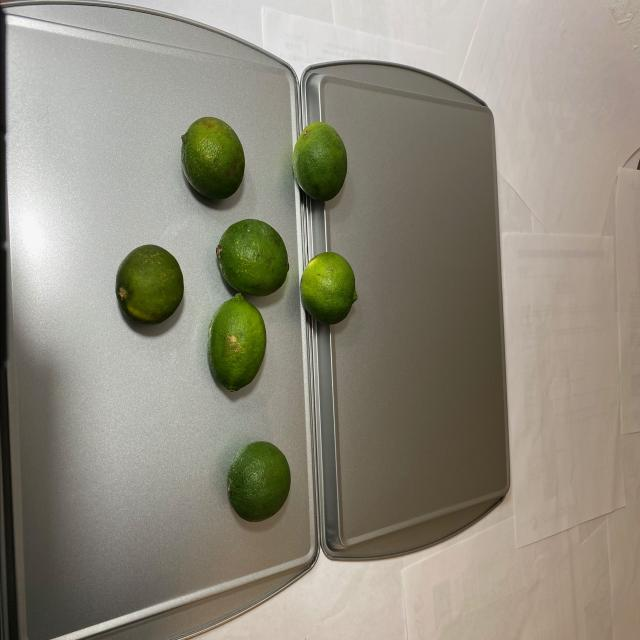lemon: (110, 118, 359, 528)
